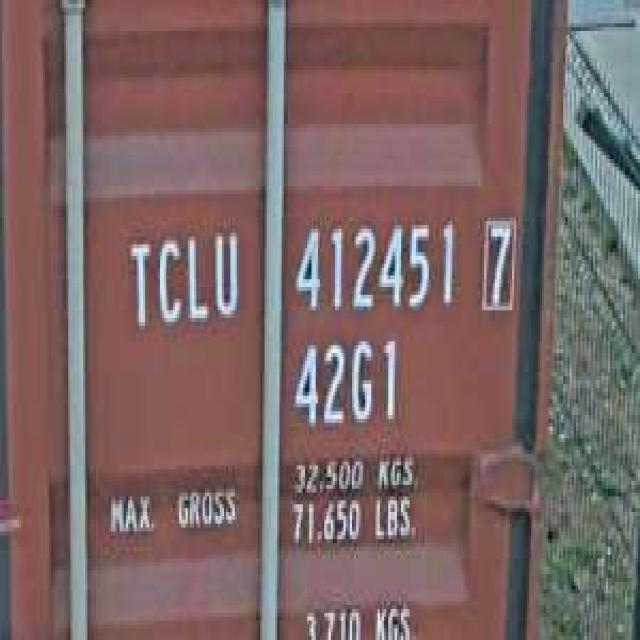dv: (476, 206, 520, 322)
owner: (120, 218, 246, 338)
serial: (290, 206, 461, 326)
size: (286, 330, 403, 442)
